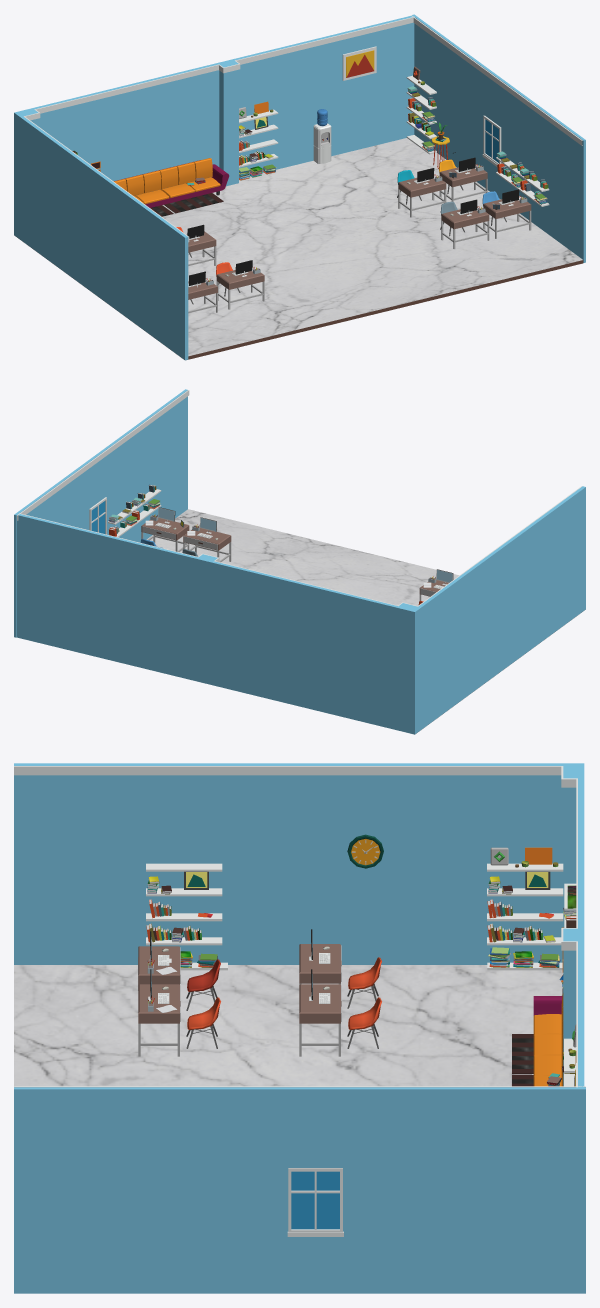
The model's file is Map-Office.fbx.
The picture shows the model from 3 angles, top to bottom: view 1: azimuth 30°, elevation 25°; view 2: azimuth 150°, elevation 25°; view 3: azimuth 270°, elevation 25°; orthographic projection. The views are drawn at different scales.
Parts seen in each view (by area): view 1: wall2, wall, wall1, wall3, polySurface474, polySurface364, polySurface1748, polySurface1300, polySurface1202, polySurface1388, polySurface1739, polySurface625 (+1 smaller); view 2: wall, wall1, wall3, wall2, polySurface1202, polySurface1104; view 3: wall3, wall1, wall2, wall, polySurface428, polySurface1830, polySurface1849, polySurface1388, polySurface1466, polySurface406, polySurface1739.001, polySurface423 (+1 smaller).
Part boxes in pixels (box(x1,y1,x2,y2)): wall2: box(17, 138, 583, 359); wall: box(17, 15, 414, 186); wall1: box(14, 112, 189, 360); wall3: box(411, 14, 585, 262); polySurface474: box(342, 46, 376, 80); polySurface364: box(313, 109, 331, 163); polySurface1748: box(114, 160, 229, 207); polySurface1300: box(398, 174, 446, 197); polySurface1202: box(441, 206, 489, 229); polySurface1388: box(216, 267, 264, 289); polySurface1739: box(164, 193, 223, 213); polySurface625: box(439, 164, 487, 187); wall: box(17, 513, 417, 734); wall1: box(413, 486, 585, 734); wall3: box(14, 389, 189, 637); wall2: box(146, 509, 581, 733); polySurface1202: box(183, 528, 231, 550); polySurface1104: box(141, 518, 189, 540); wall3: box(14, 1086, 585, 1293); wall1: box(14, 763, 583, 964); wall2: box(14, 965, 563, 1086); wall: box(561, 763, 584, 1087); polySurface428: box(291, 1171, 339, 1229); polySurface1830: box(299, 984, 340, 1023); polySurface1849: box(299, 944, 340, 983); polySurface1388: box(138, 984, 179, 1023); polySurface1466: box(138, 946, 179, 984); polySurface406: box(347, 834, 383, 868); polySurface1739.001: box(512, 1034, 533, 1073); polySurface423: box(288, 1168, 342, 1232).
Bounding box in the file's own units: 1374 × 401 × 1016.
